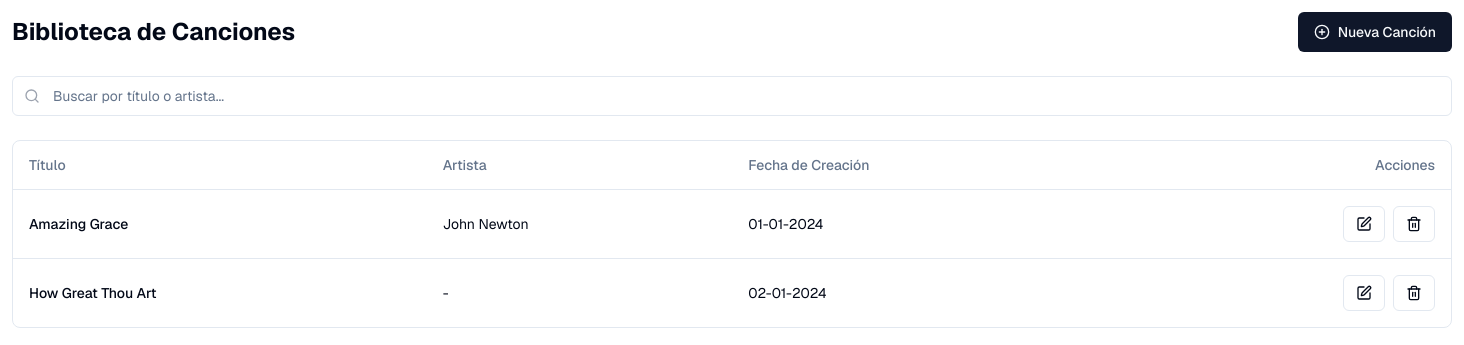
Test case: SongsPage › filters songs based on search term
The width and height of the screenshot is (1464, 345).
Expected: the text "Amazing Grace" is shown, [13,189,427,258]
Search for a specific song
Type "Amazing" into the field with placeholder "Buscar por título o artista...".
click(732, 96); type("Amazing")  # box [12,76,1452,116]
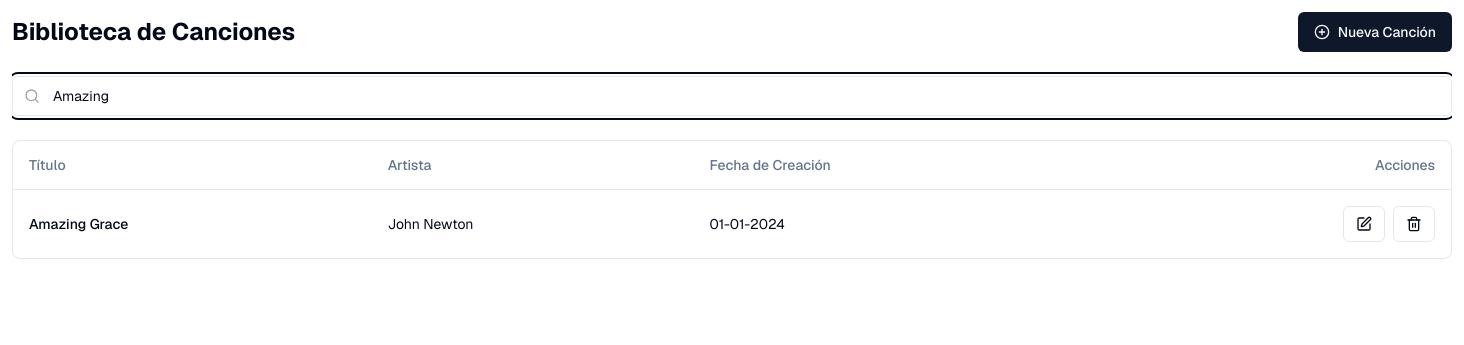
Expected: the text "Amazing Grace" is shown, [13,189,372,258]
Result: the text "How Great Thou Art" is gone
